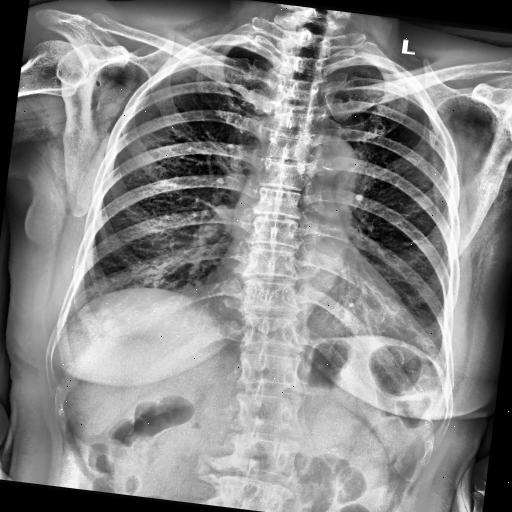0- Aortic enlargement: (291, 128, 363, 198), (294, 134, 362, 184), (312, 133, 364, 187)
3- Cardiomegaly: (190, 256, 439, 355), (192, 264, 437, 361), (196, 274, 426, 342)
